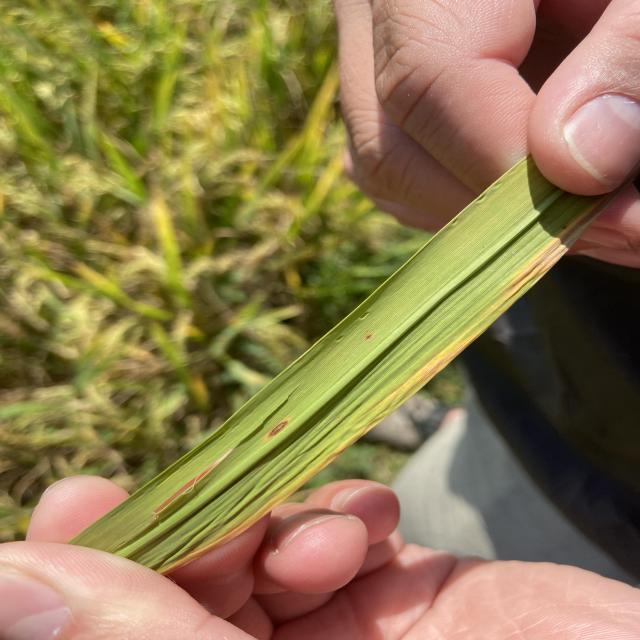Dom nau: (268, 421, 288, 436), (366, 335, 371, 339)
